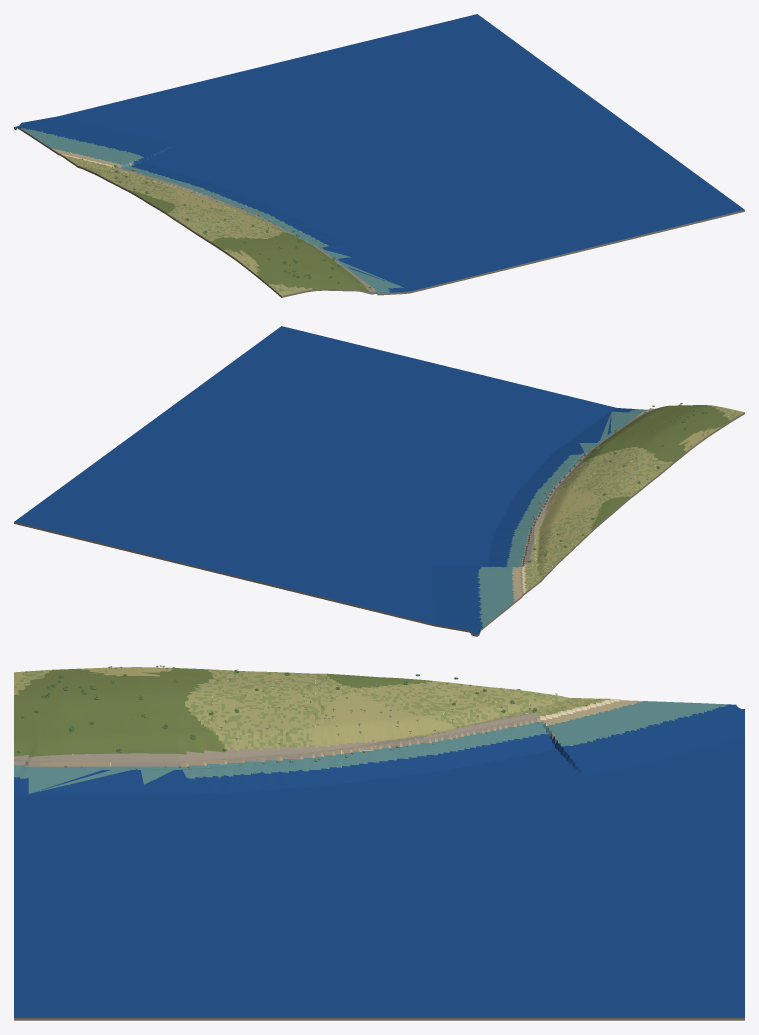
The model's file is parca_+15_-3-yakin.glb.
3 renders of one model, top to bottom at view 1: azimuth 30°, elevation 25°; view 2: azimuth 150°, elevation 25°; view 3: azimuth 270°, elevation 25°, orthographic. The views are drawn at different scales.
Visible parts, largest first — view 1: parca_+15_-3_arazi, parca_+15_-3_bitkiler; view 2: parca_+15_-3_arazi, parca_+15_-3_bitkiler; view 3: parca_+15_-3_arazi, parca_+15_-3_bitkiler.
Boxes of the visible parts, left/top/right/bottom form: parca_+15_-3_arazi: left=14, top=14, right=744, bottom=297; parca_+15_-3_bitkiler: left=81, top=159, right=371, bottom=290; parca_+15_-3_arazi: left=14, top=326, right=744, bottom=636; parca_+15_-3_bitkiler: left=524, top=403, right=737, bottom=582; parca_+15_-3_arazi: left=14, top=667, right=744, bottom=1020; parca_+15_-3_bitkiler: left=16, top=665, right=587, bottom=760.
Size of the model in its own units: 1003 by 75.32 by 1000.
